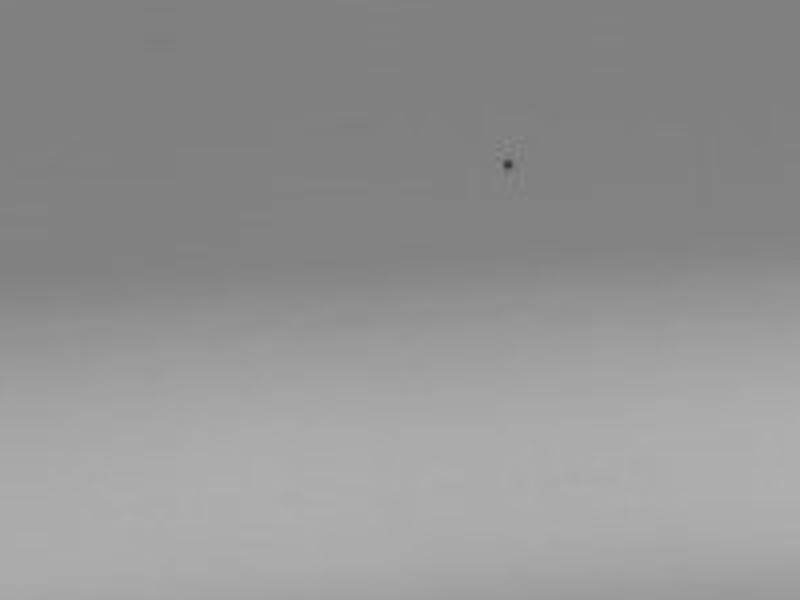defect: (501, 156, 516, 173)
